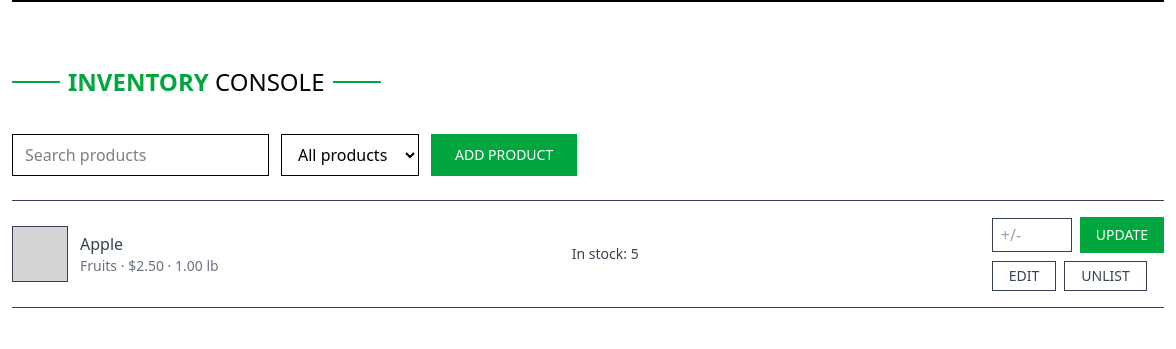
Scenario: Inventory › shows the backend message when stock would go below zero
Expected: the text "Apple" is shown, [80,233,123,255]
Type "-9" into the number field named "Change stock of Apple".
click(1032, 235); type("-9")  # box [992,218,1072,252]
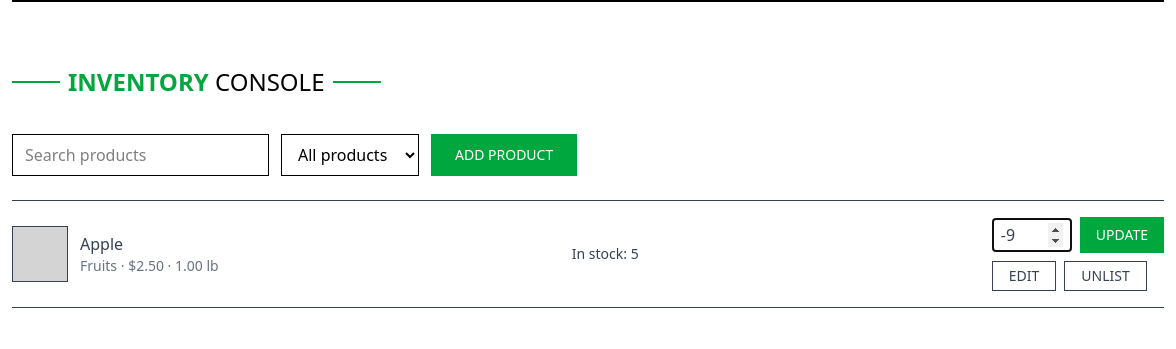
Click the button "UPDATE".
click(1122, 235)  # box [1080,217,1164,253]
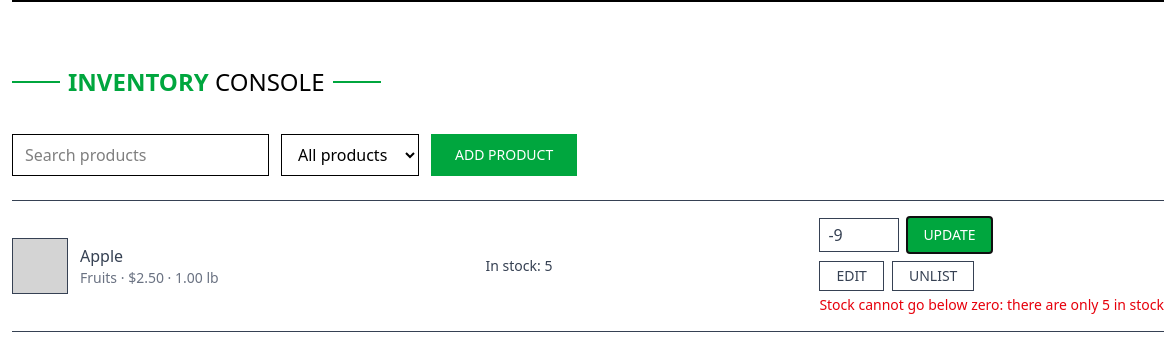
Expected: the text "5" is shown, [544,256,552,275]
Expected: the text "Stock cannot go below zero: there are only 5 in stock" is shown, [819,295,1164,315]
